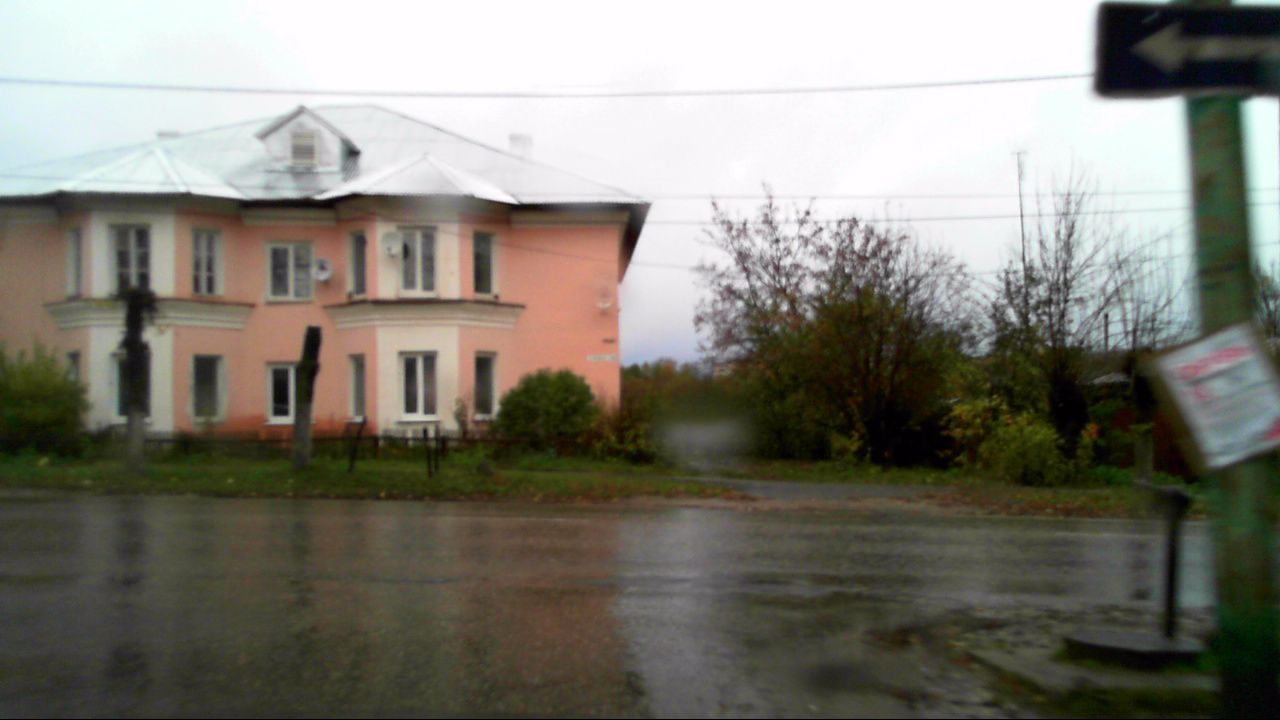One-Way Traffic: (1097, 1, 1280, 95)
